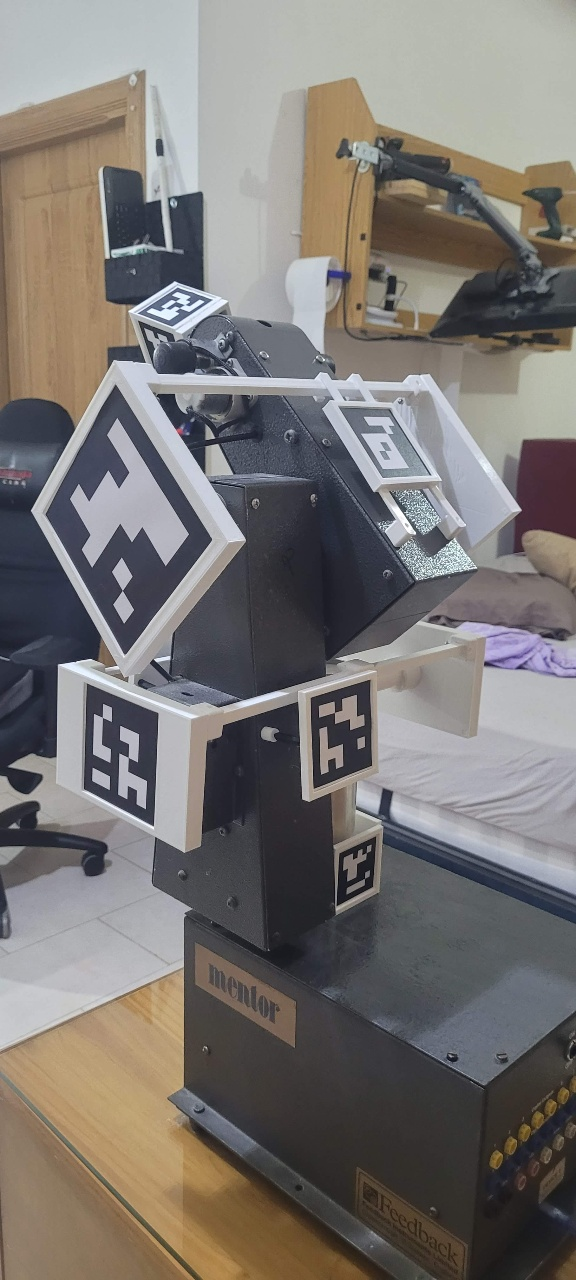Robot: (32, 282, 525, 957)
